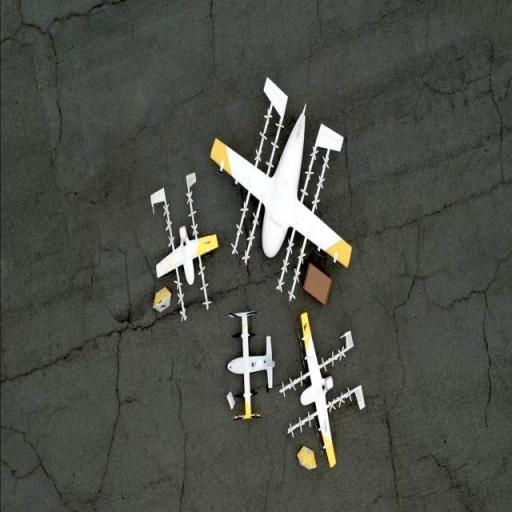uav: (140, 172, 220, 324)
